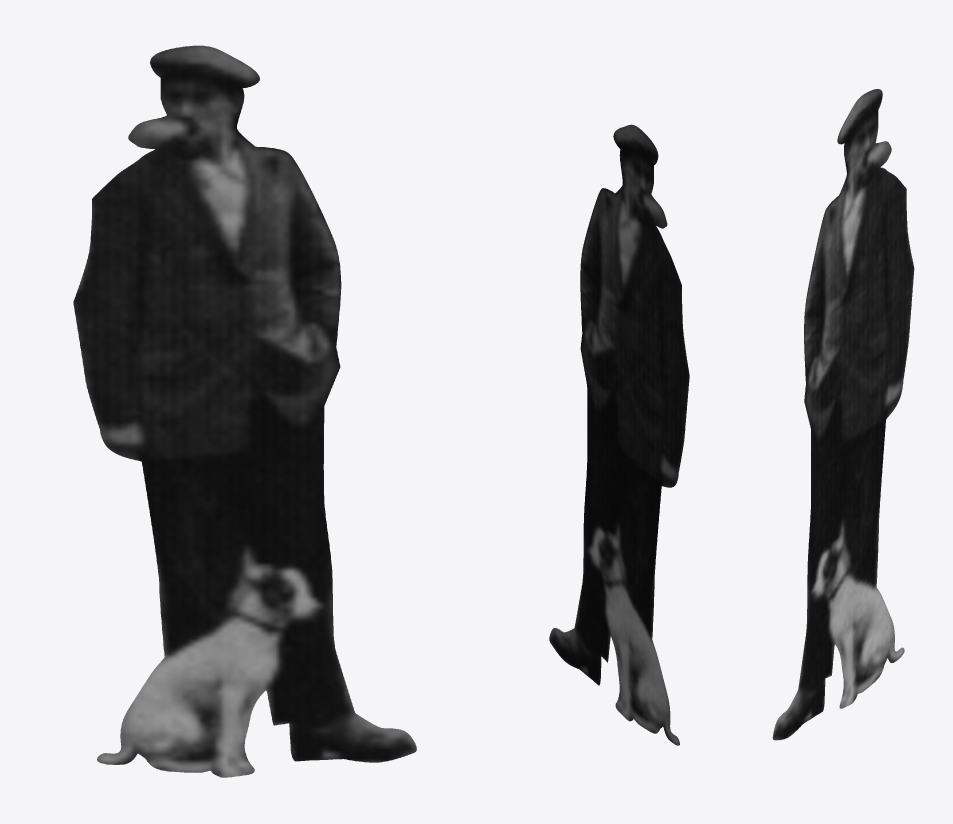
Rendered from man_with_dog.FBX.
The picture shows the model from 3 angles, left to right: view 1: azimuth 30°, elevation 25°; view 2: azimuth 150°, elevation 25°; view 3: azimuth 270°, elevation 25°; orthographic projection. The views are drawn at different scales.
Visible parts, largest first — view 1: man_with_dog; view 2: man_with_dog; view 3: man_with_dog.
Boxes of the visible parts, x1,y1,x2,y2 form: man_with_dog: [73, 45, 416, 777]; man_with_dog: [549, 124, 689, 745]; man_with_dog: [772, 89, 914, 740].
Size of the model in its own units: 93.9 by 200 by 54.51.
Materials: 1 (1 with a texture image).
